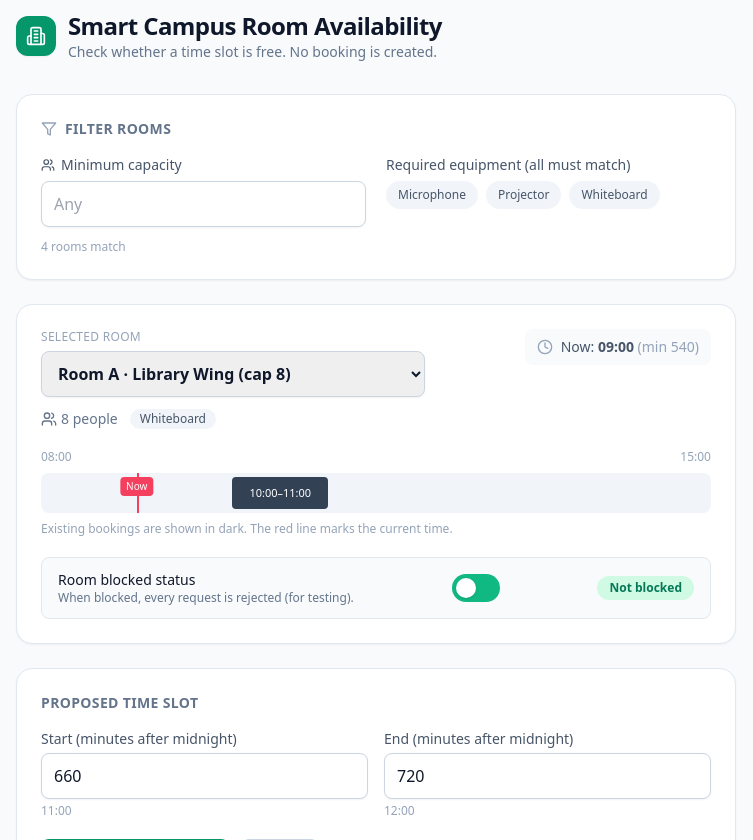
Test: U4 — Equipment filtering through UI › auto-selects Room C when projector and microphone are required
Click the button "projector".
click(524, 195)  # box [486,181,561,209]
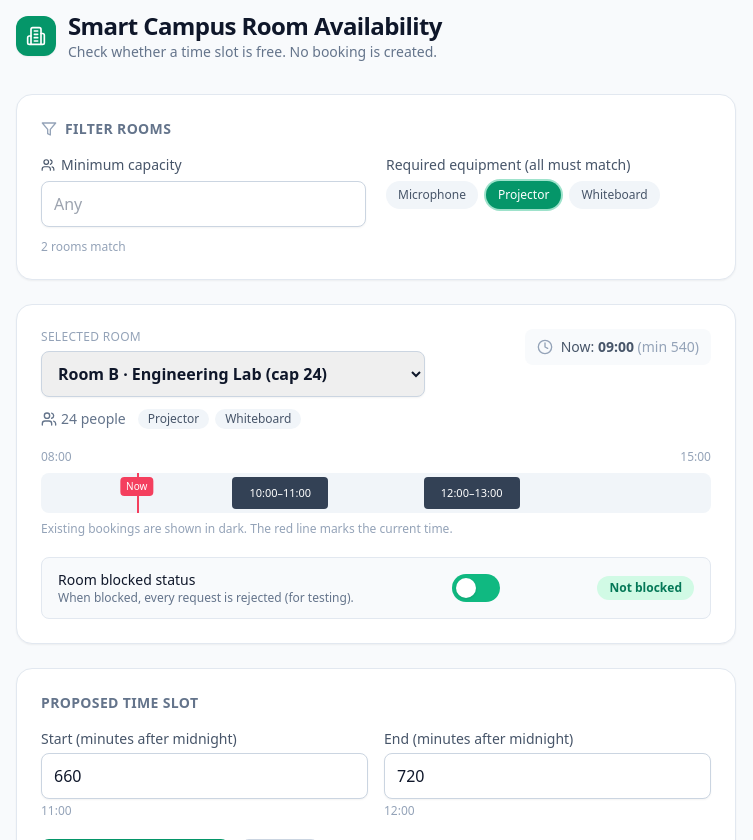
Click the button "microphone".
click(432, 195)  # box [386,181,478,209]
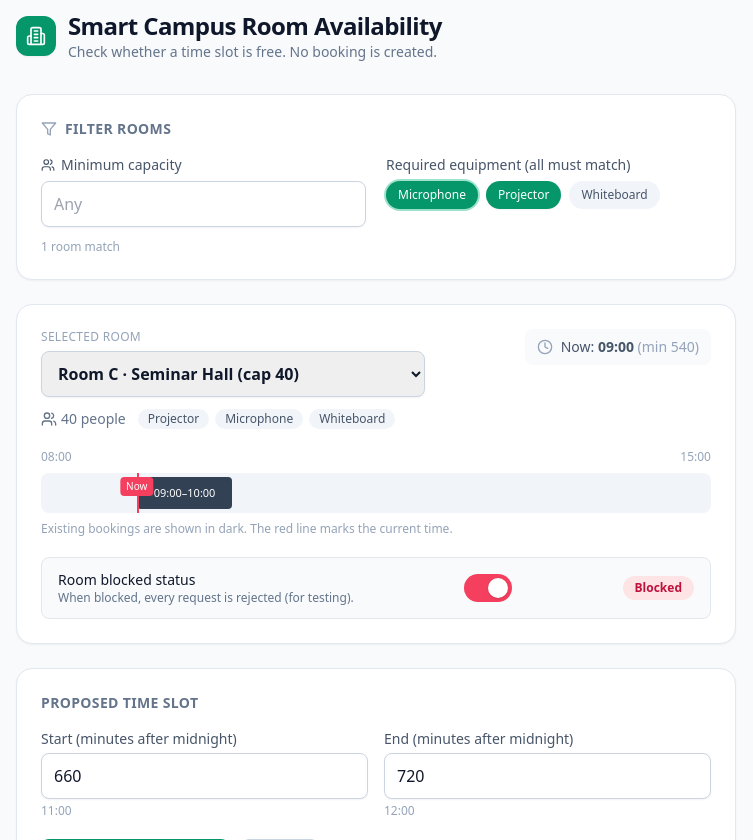
Result: the dropdown shows "Room C · Seminar Hall (cap 40)" at [41,351,425,397]
